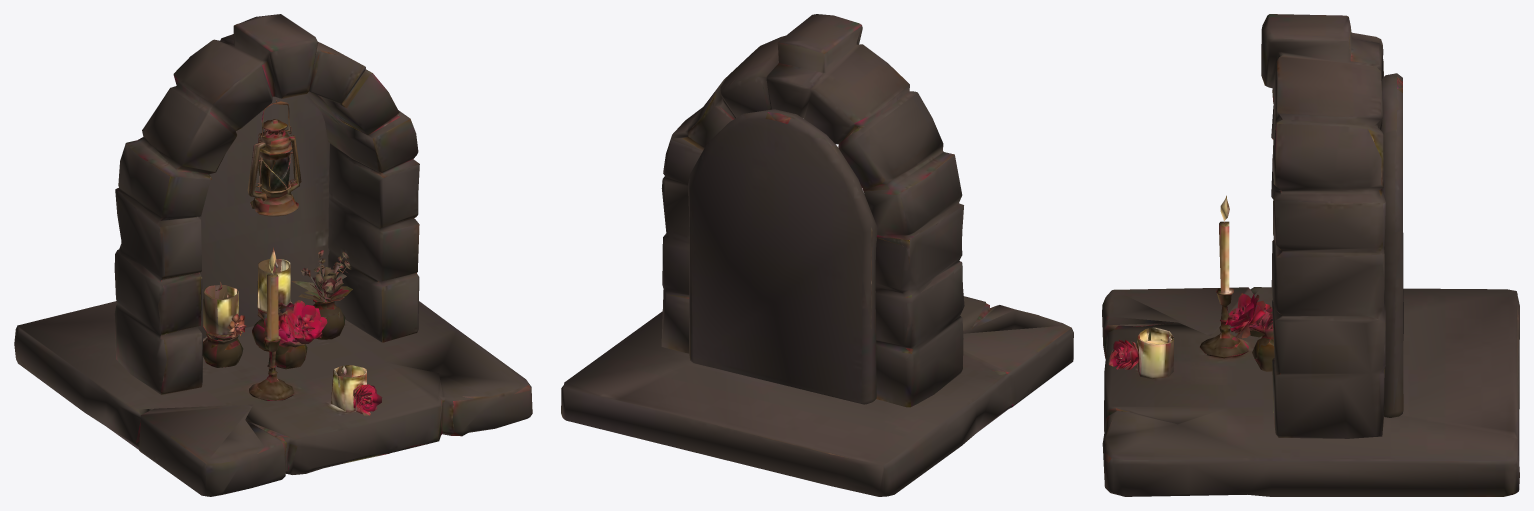
File: shrine.glb
3 renders of one model, left to right at view 1: azimuth 30°, elevation 25°; view 2: azimuth 150°, elevation 25°; view 3: azimuth 270°, elevation 25°, orthographic. The views are drawn at different scales.
Size of the model in its own units: 0.9195 by 0.9507 by 0.9312.
1 material, 1 textured.
